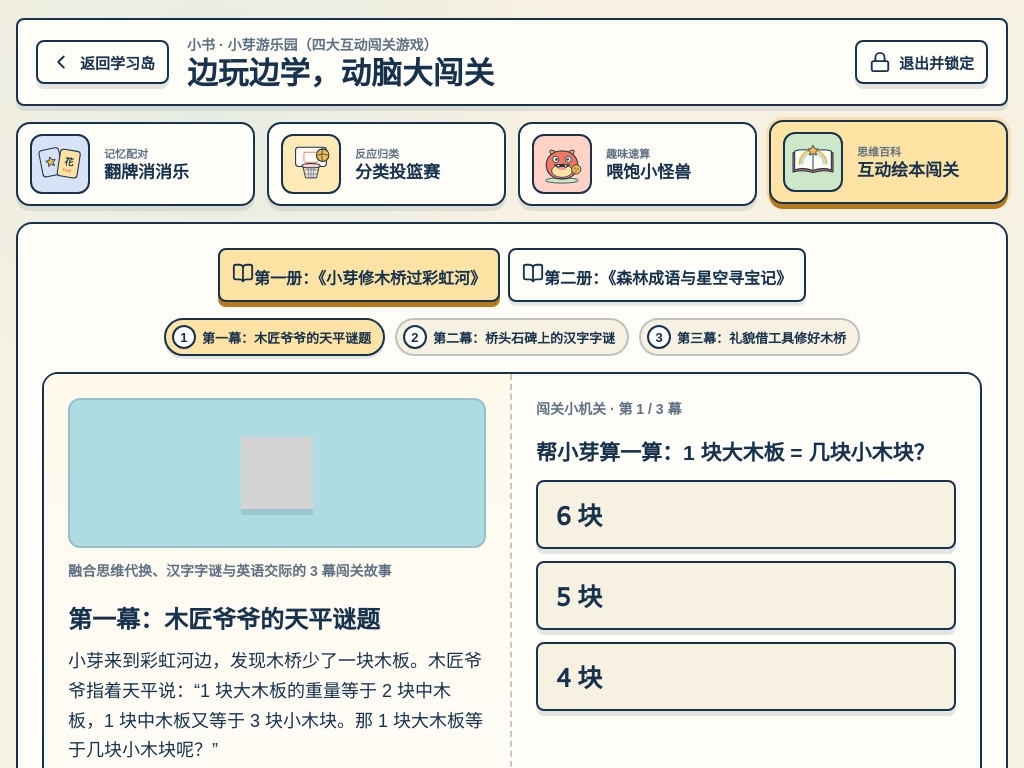
Test: ArcadeScreen (小芽游乐园四大互动小游戏) › switches to Story Quest and completes all 3 interactive story scenes
# Scene 1: 6 块
Click the button "6 块" at (579, 514), box [536,480,956,549]
(page scrolled)
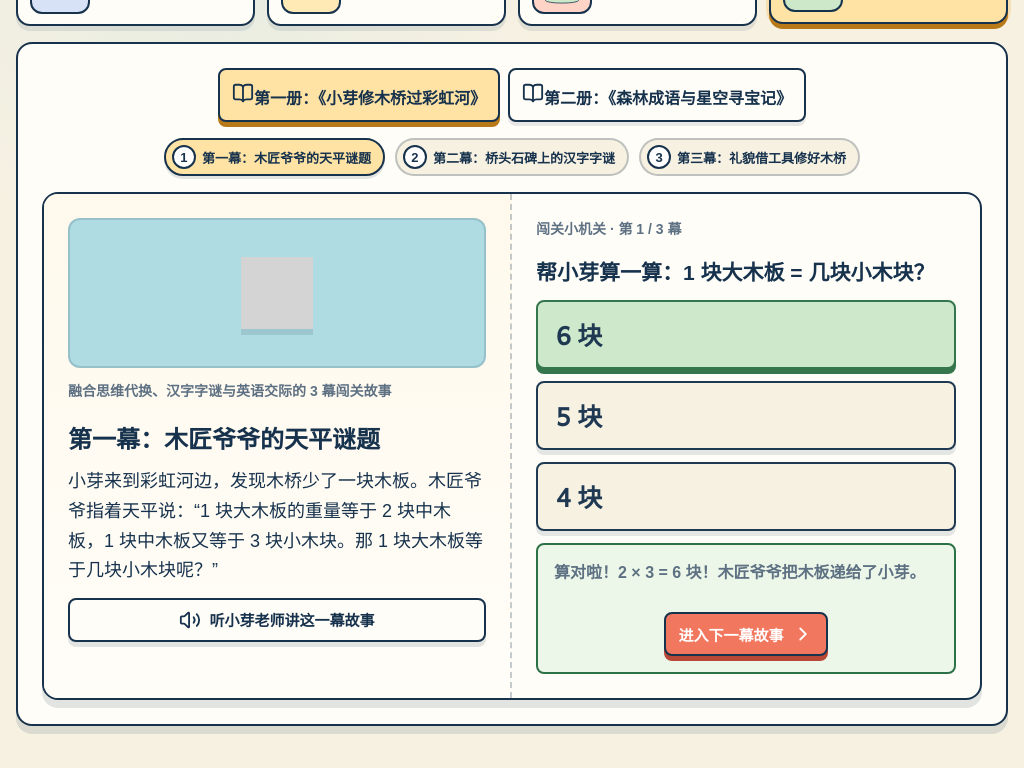
Click the button "进入下一幕故事" at (746, 634), box [664,612,828,656]
(page scrolled)
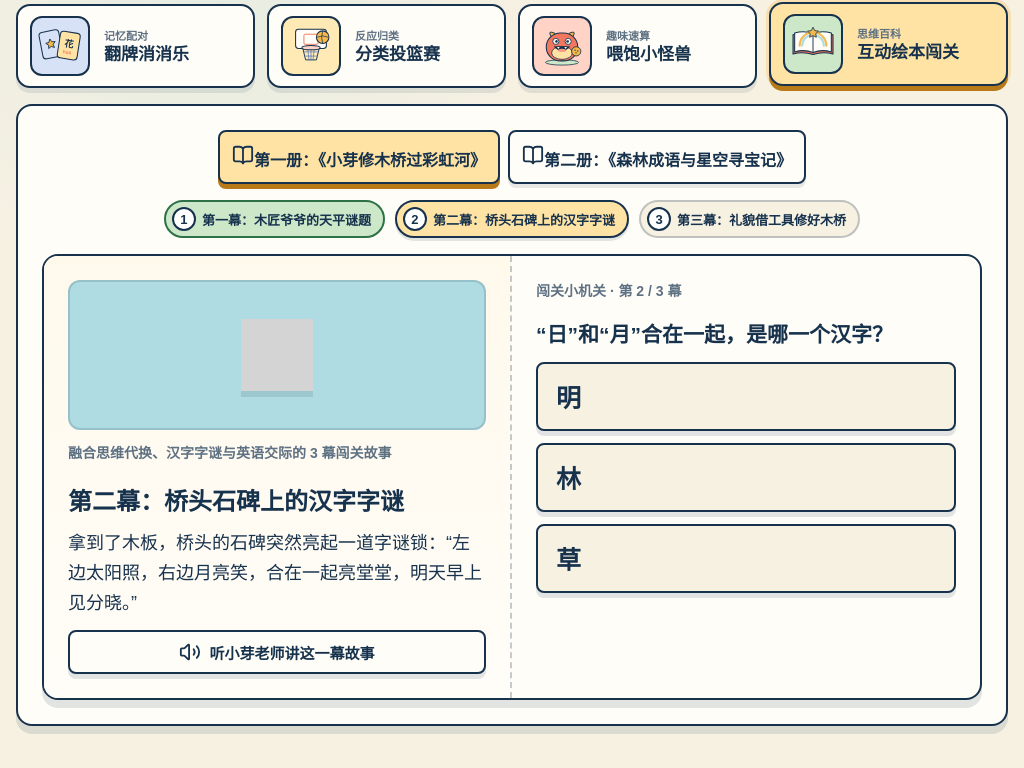
# Scene 2: 明
Click the button "明" at (569, 396), box [536,362,956,431]
(page scrolled)
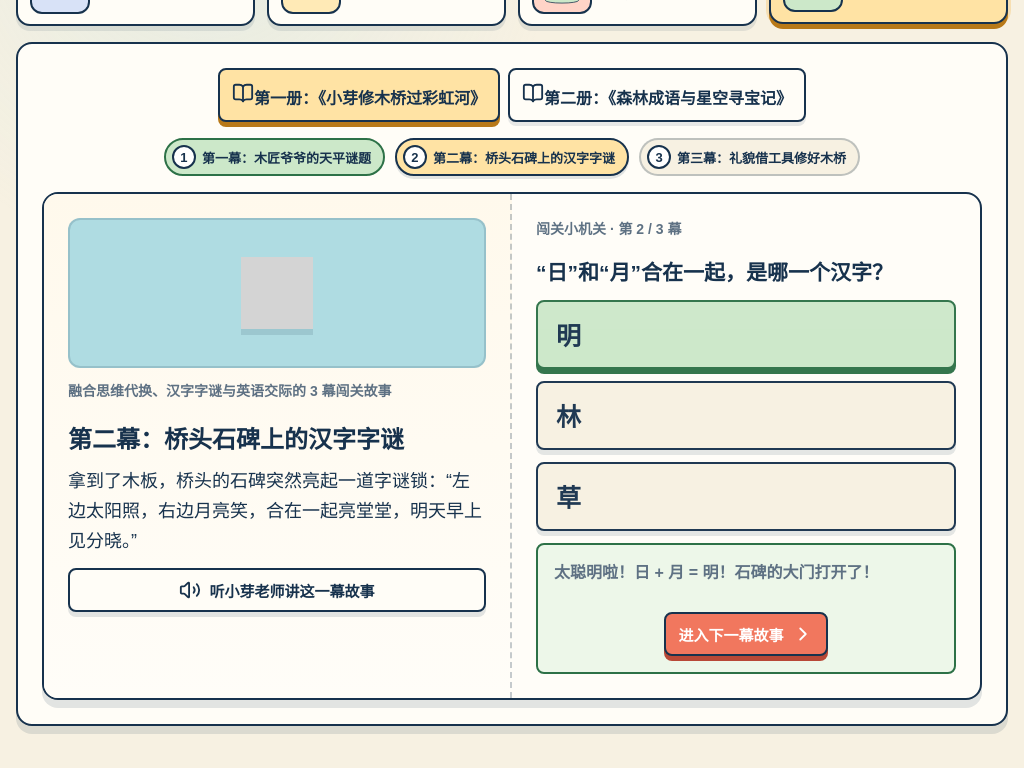
Click the button "进入下一幕故事" at (746, 634), box [664,612,828,656]
(page scrolled)
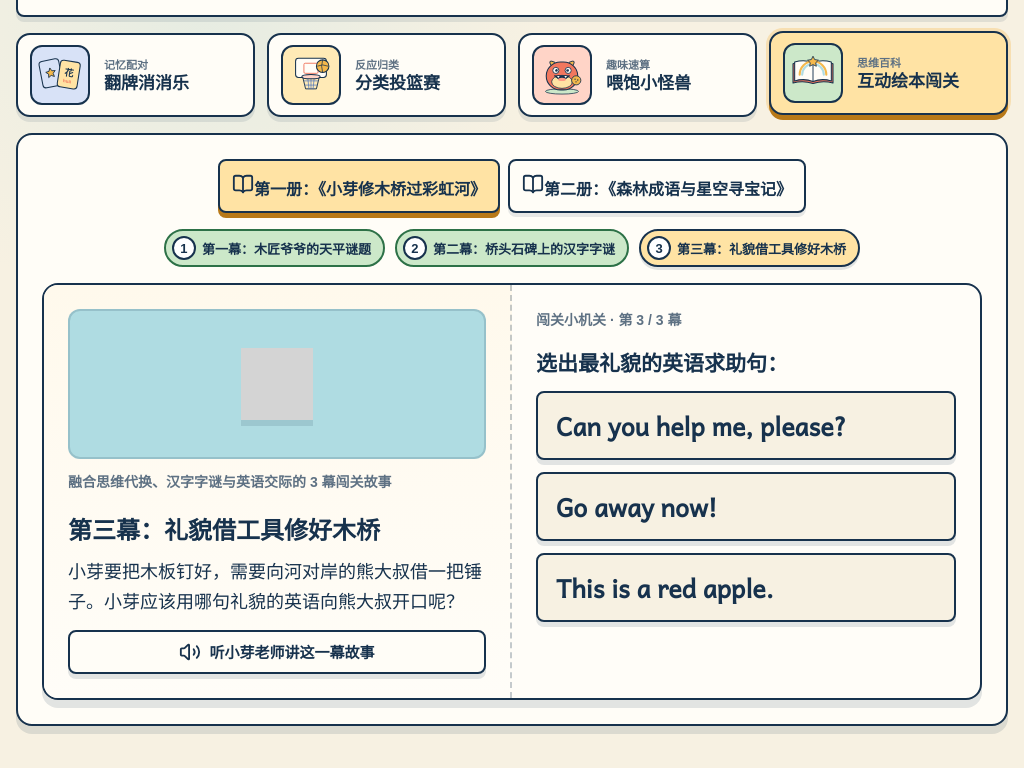
# Scene 3: Can you help me, please?
Click the button "Can you help me, please?" at (746, 425), box [536,391,956,460]
(page scrolled)
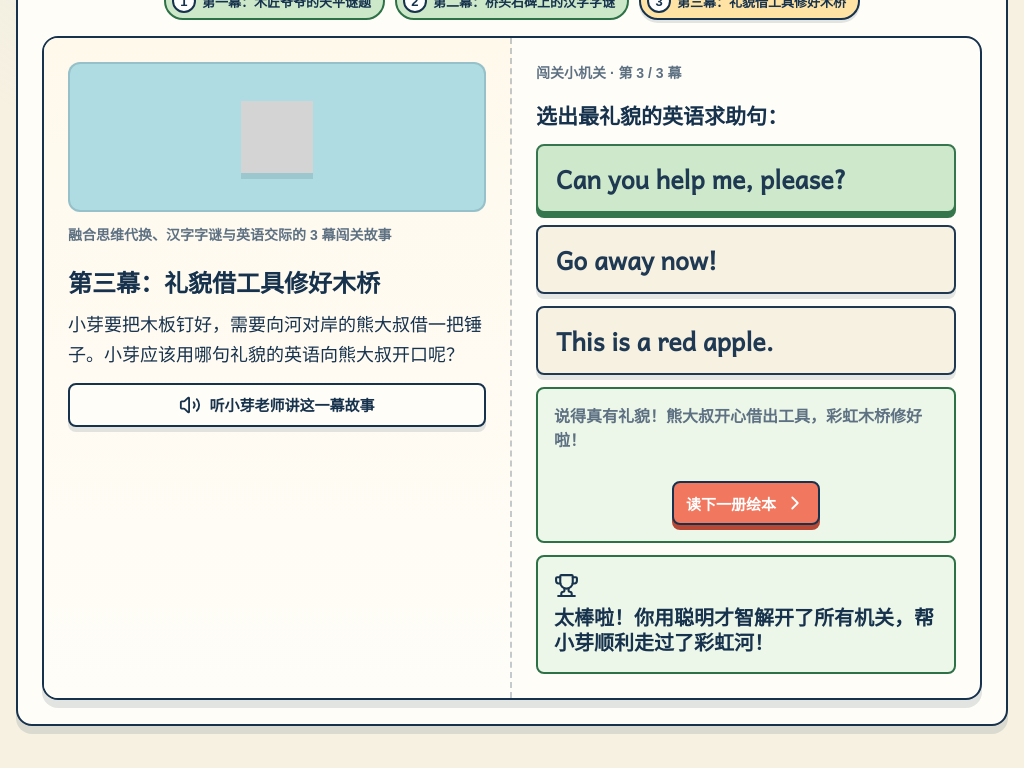
expect the element with test id "story-quest-victory" is shown: met, box [536,555,956,674]
